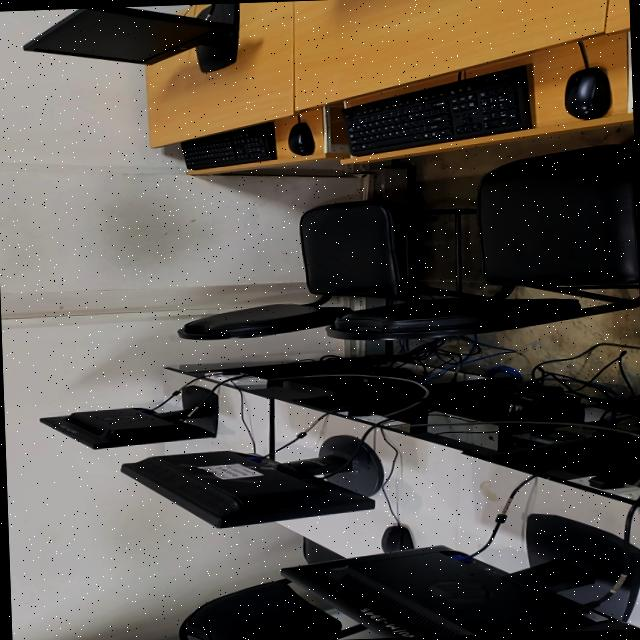Chair: (325, 144, 640, 340), (177, 200, 478, 340), (178, 579, 360, 640)
Cpu: (502, 426, 596, 448)
Keyboard: (342, 66, 529, 156), (180, 122, 274, 170)
Monitor: (281, 514, 640, 638), (120, 435, 382, 528), (23, 3, 237, 72), (39, 386, 216, 449)
Mouse: (563, 67, 609, 119), (380, 525, 412, 552), (287, 122, 313, 155)
